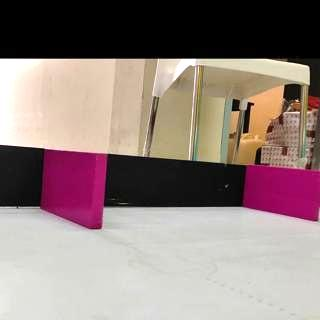xparking: (44, 157, 106, 232), (245, 170, 320, 218)
